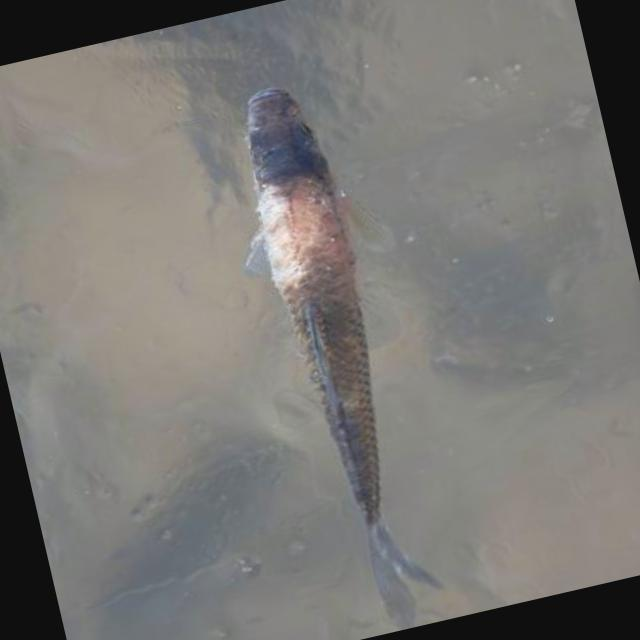Cakil Baligi: (192, 67, 462, 640)
